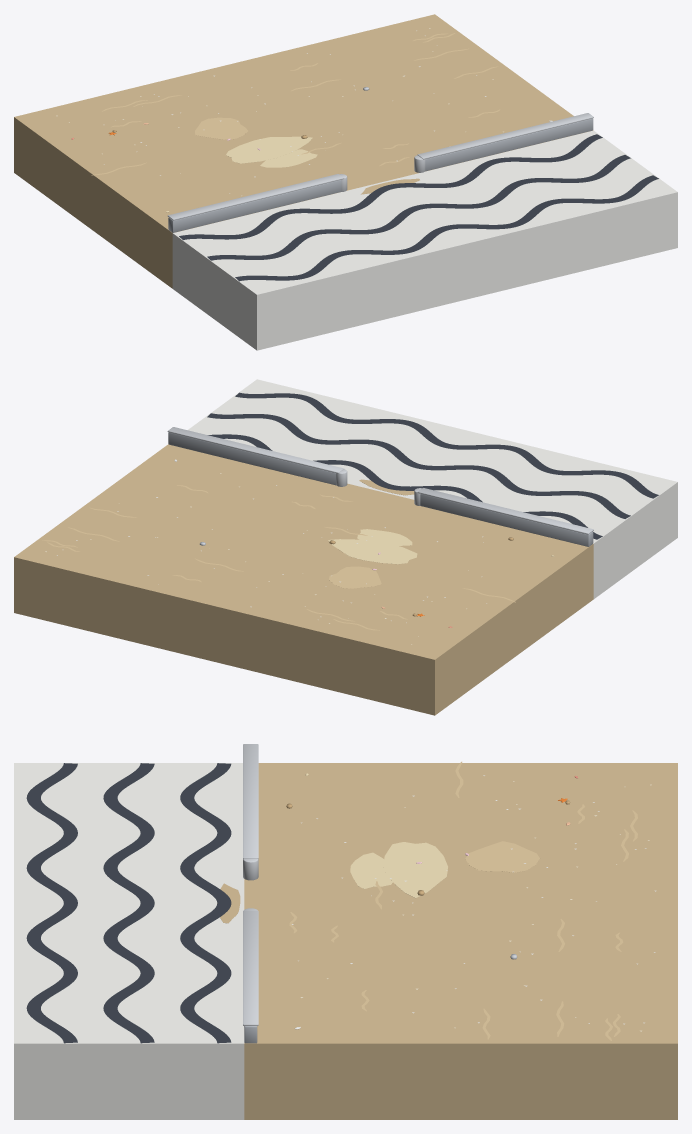
File: piso_areia_calcadao.glb
3 renders of one model, top to bottom at view 1: azimuth 30°, elevation 25°; view 2: azimuth 150°, elevation 25°; view 3: azimuth 270°, elevation 25°, orthographic. The views are drawn at different scales.
Visible parts, largest first — view 1: piso_areia_calcadao; view 2: piso_areia_calcadao; view 3: piso_areia_calcadao.
Part boxes in pixels (x1,y1,x2,y2): piso_areia_calcadao: (14,14,677,350); piso_areia_calcadao: (14,379,677,715); piso_areia_calcadao: (14,744,677,1119).
Bounding box in the file's own units: 15.07 × 2.38 × 15.
1 material, 1 textured.
